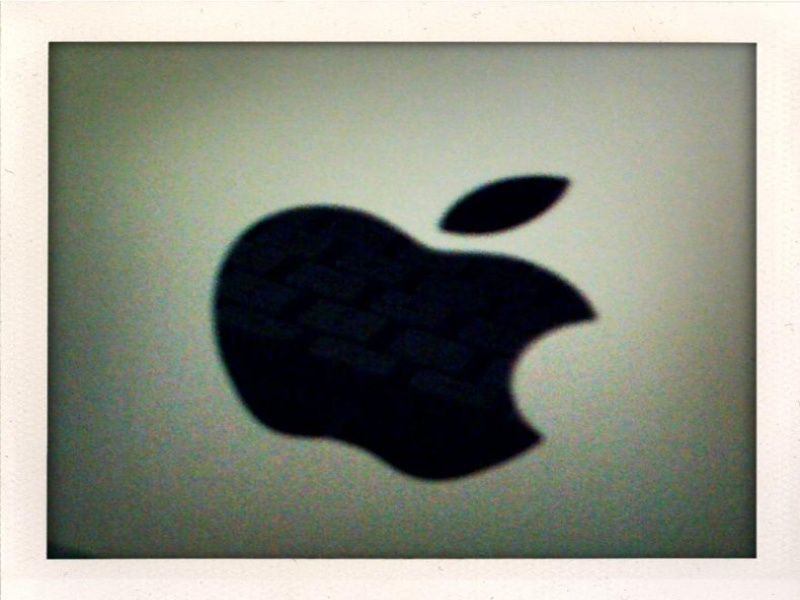laptop: (49, 41, 758, 561)
